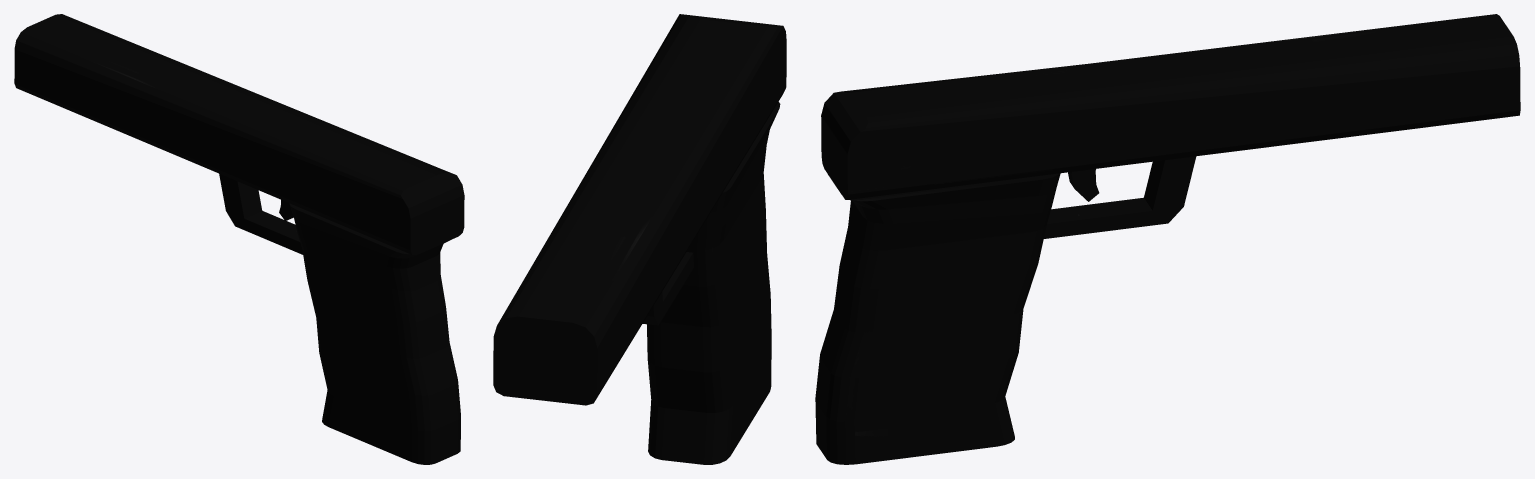
Rendered from pistola.fbx.
3 views of the same model, side by side, from view 1: azimuth 30°, elevation 25°; view 2: azimuth 150°, elevation 25°; view 3: azimuth 270°, elevation 25° (orthographic). The views are drawn at different scales.
Parts seen in each view (by area): view 1: Cube; view 2: Cube; view 3: Cube.
Part boxes in pixels (<box>): Cube: <box>14,14,464,464</box>; Cube: <box>493,14,786,464</box>; Cube: <box>815,14,1520,464</box>.
Size of the model in its own units: 1.74 by 2.33 by 4.34.
1 material, 1 textured.
